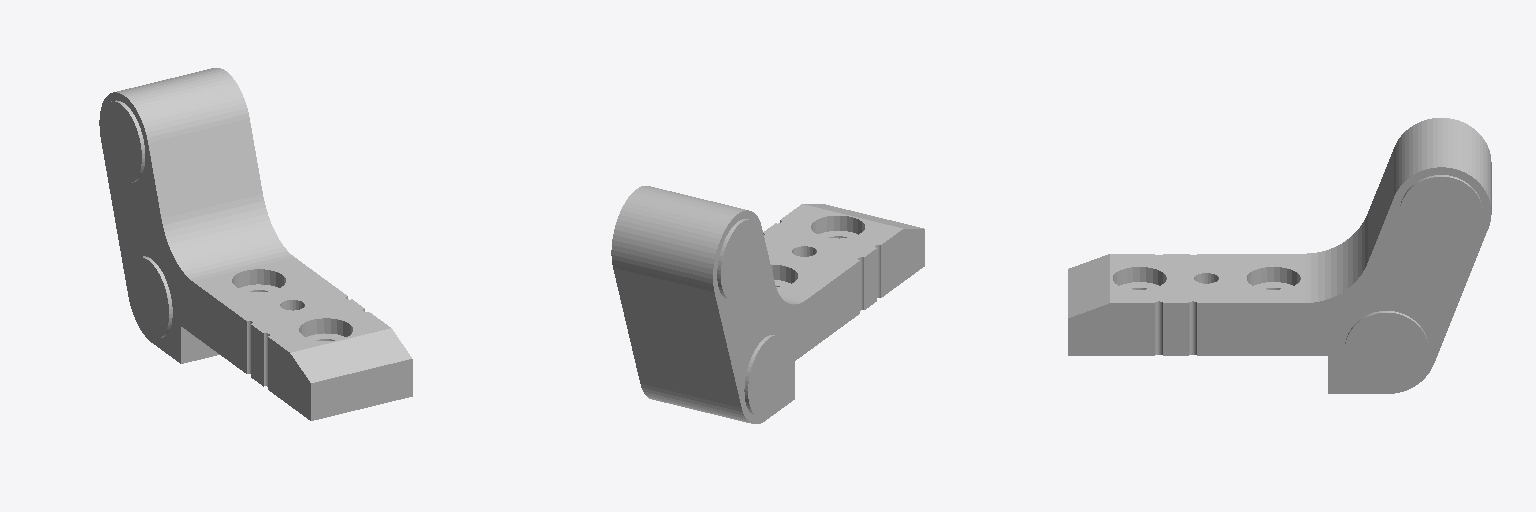
The model's file is robotiq_arg2f_85_inner_finger_vis.obj.
3 views of the same model, side by side, from view 1: azimuth 30°, elevation 25°; view 2: azimuth 150°, elevation 25°; view 3: azimuth 270°, elevation 25° (orthographic).
Parts seen in each view (by area): view 1: node0_Part__Feature.001; view 2: node0_Part__Feature.001; view 3: node0_Part__Feature.001.
Part boxes in pixels (x1,y1,x2,y2): node0_Part__Feature.001: (99,68,412,420); node0_Part__Feature.001: (611,186,924,423); node0_Part__Feature.001: (1068,118,1491,393).
Bounding box in the file's own units: 15 × 29.9 × 50.51.